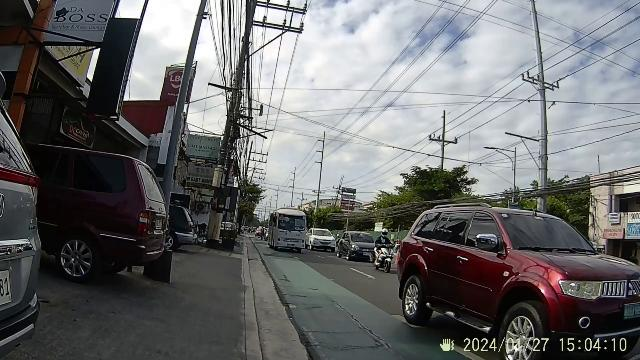car: (268, 204, 310, 255)
utility_post: (519, 64, 563, 172), (426, 106, 460, 198), (210, 152, 227, 250), (286, 165, 300, 205)
